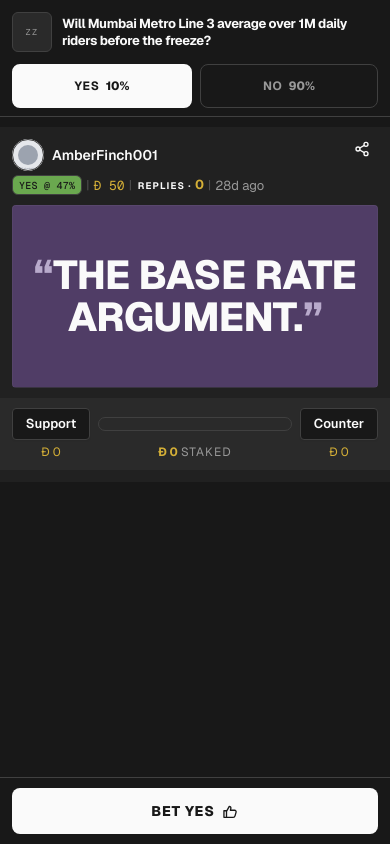
Test: phone bar — signed out opens the gate, never the composer (guard 10) › phone-bar::viewer-null-mounts-AuthGateSlot-and-not-BetComposer
Click the button with test id "phone-bar-entry" at (195, 811), box [12,788,378,834]
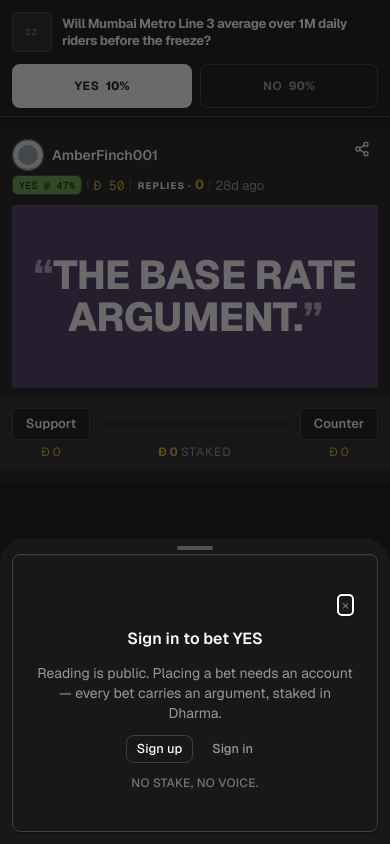
Result: the dialog with test id "phone-sheet" shows "Sign in to bet YES" at [127,628,263,649]
Result: the dialog with test id "phone-sheet" shows "No stake, no voice." at [131,775,259,791]
